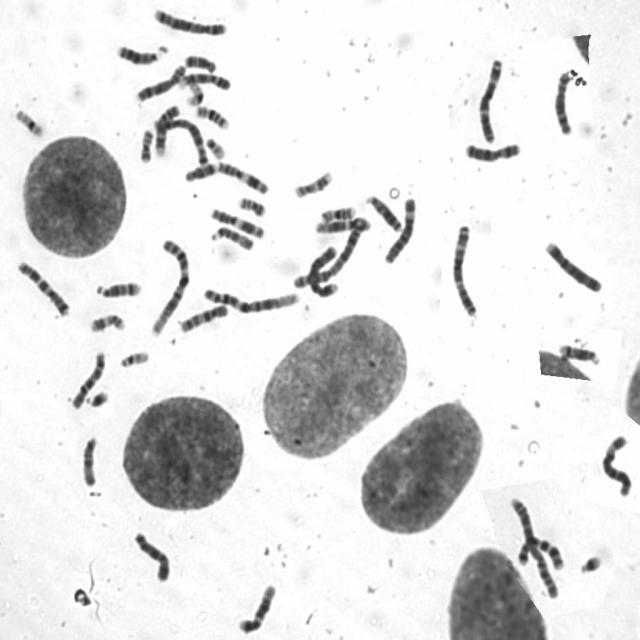A1: (148, 242, 191, 338), (200, 284, 300, 314)
A2: (289, 213, 373, 292), (507, 492, 561, 601)
A3: (450, 220, 474, 318), (474, 61, 502, 144)
B4: (542, 238, 598, 294), (308, 245, 344, 299)
B5: (157, 114, 208, 168), (151, 5, 228, 38)
C10: (68, 348, 106, 410), (176, 301, 229, 334)
C11: (217, 160, 283, 195), (208, 205, 266, 240)
C12: (236, 586, 277, 634), (312, 214, 372, 237)
C6: (382, 194, 414, 266), (598, 432, 632, 498)
C7: (15, 258, 71, 318), (514, 534, 566, 572)
C8: (138, 61, 187, 104), (550, 69, 575, 136)
C9: (147, 106, 180, 162), (176, 70, 229, 92)
D13: (362, 190, 402, 233), (114, 39, 168, 67)
D14: (555, 340, 602, 367), (93, 278, 144, 300)
D15: (208, 222, 256, 252), (80, 433, 98, 487)
E16: (193, 102, 231, 131), (317, 204, 357, 224)
E17: (290, 170, 334, 200), (88, 310, 126, 334)
E18: (186, 156, 218, 186), (181, 52, 218, 73)
F19: (14, 107, 44, 138), (183, 81, 205, 107)
F20: (236, 193, 268, 219), (138, 127, 155, 165)
G21: (577, 550, 603, 574), (83, 388, 110, 409)
G22: (203, 134, 227, 160), (116, 352, 150, 370)
X: (131, 528, 169, 584), (462, 139, 518, 164)
